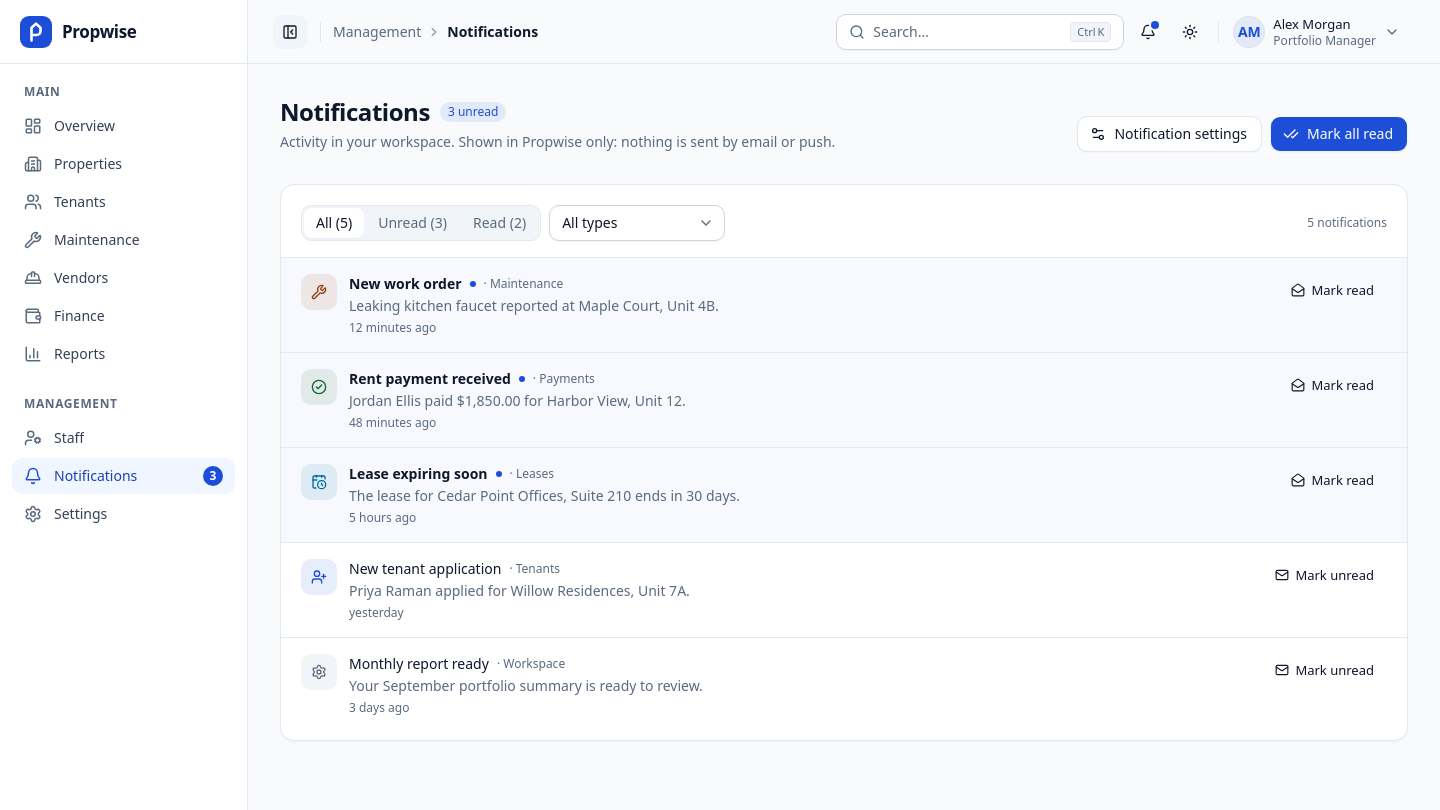
it: Notifications page › marks one read and unread, and all read; header, sidebar and page follow, and it is saved
Click the button with aria-label "Mark as read: New work order".
click(1336, 290)  # box [1284,274,1387,306]
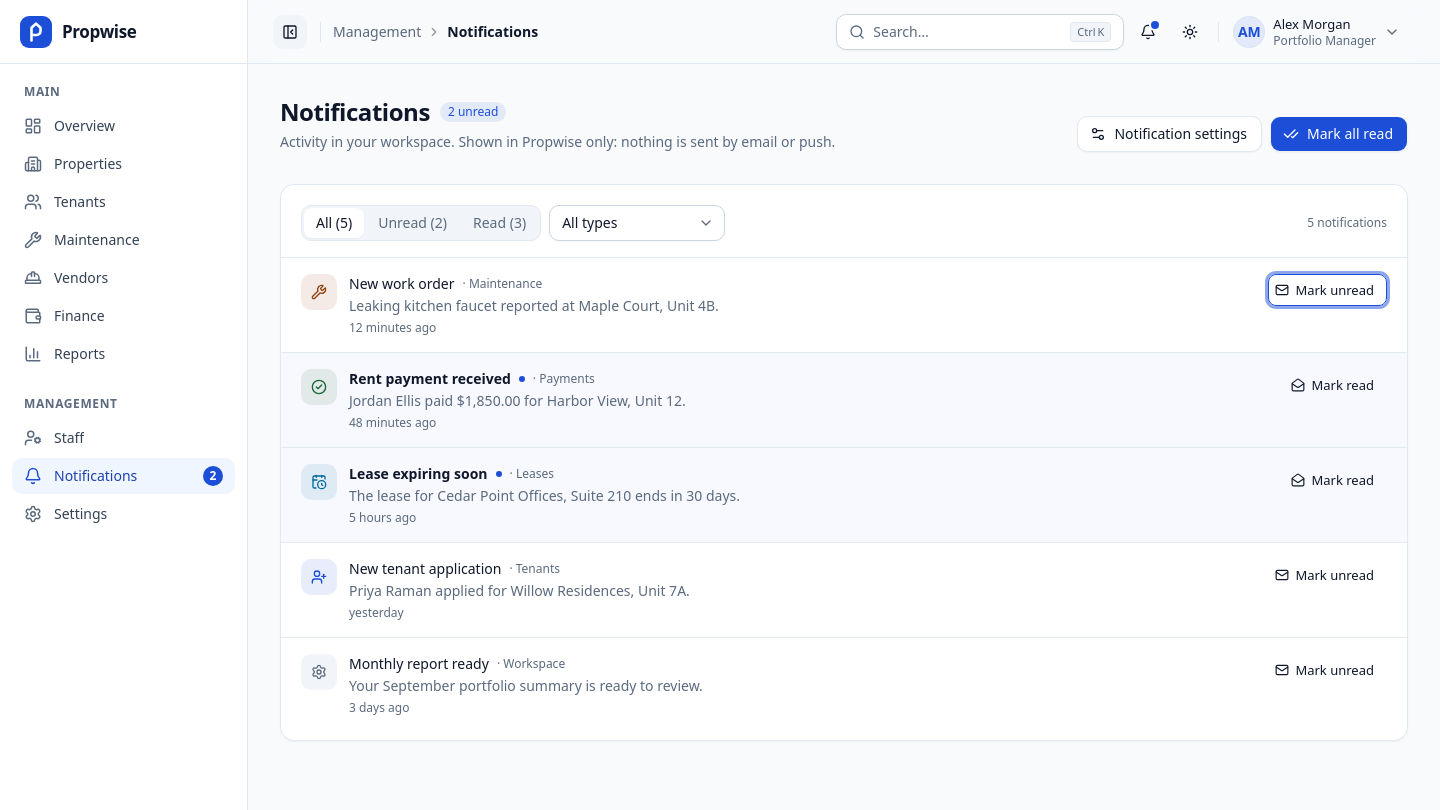
Expected: the link to "/notifications" shows "2", [12,458,235,494]
Click the button with aria-label "Mark as unread: Monthly report ready".
click(1328, 670)  # box [1268,654,1387,686]
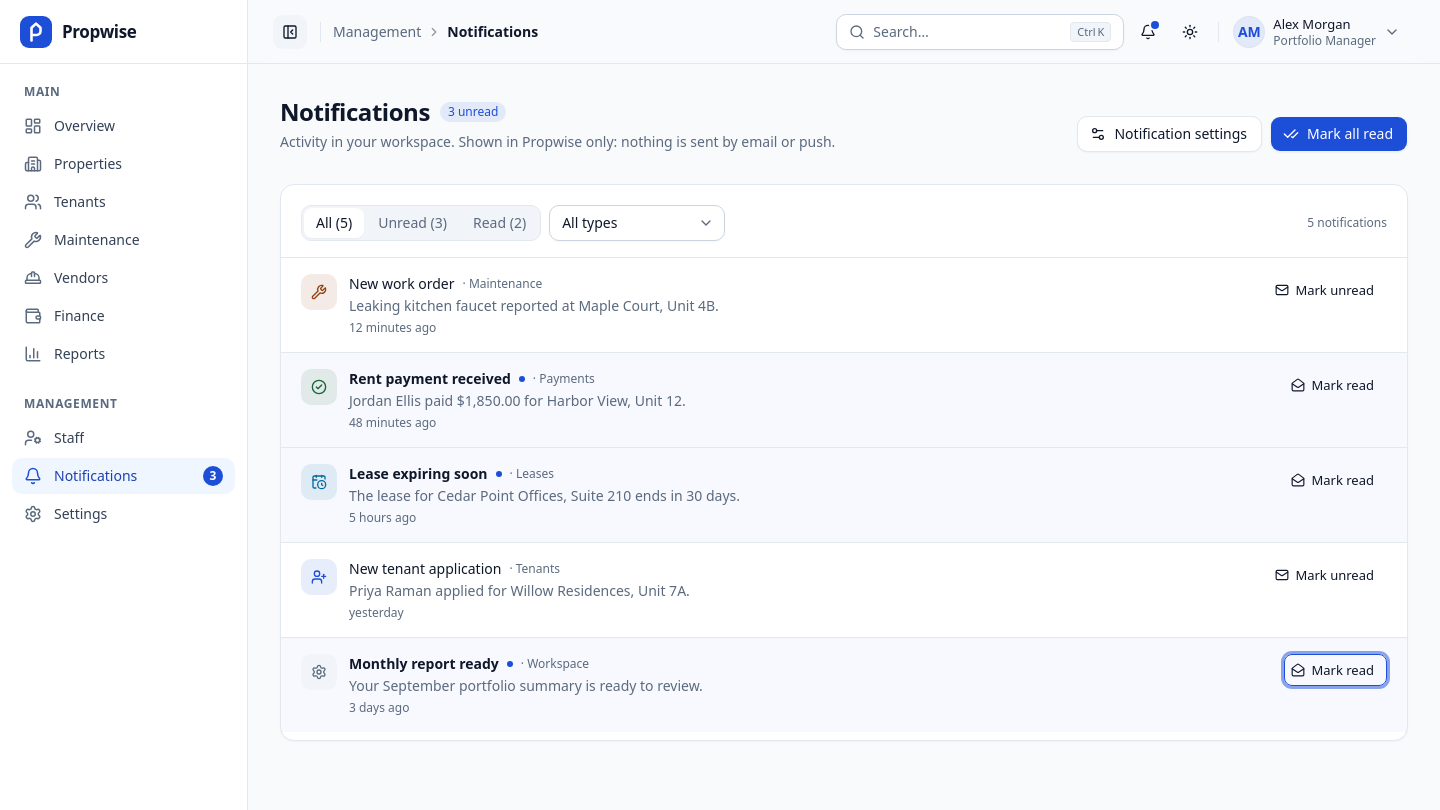
Click the button "Mark all read".
click(1339, 134)  # box [1270,116,1408,152]
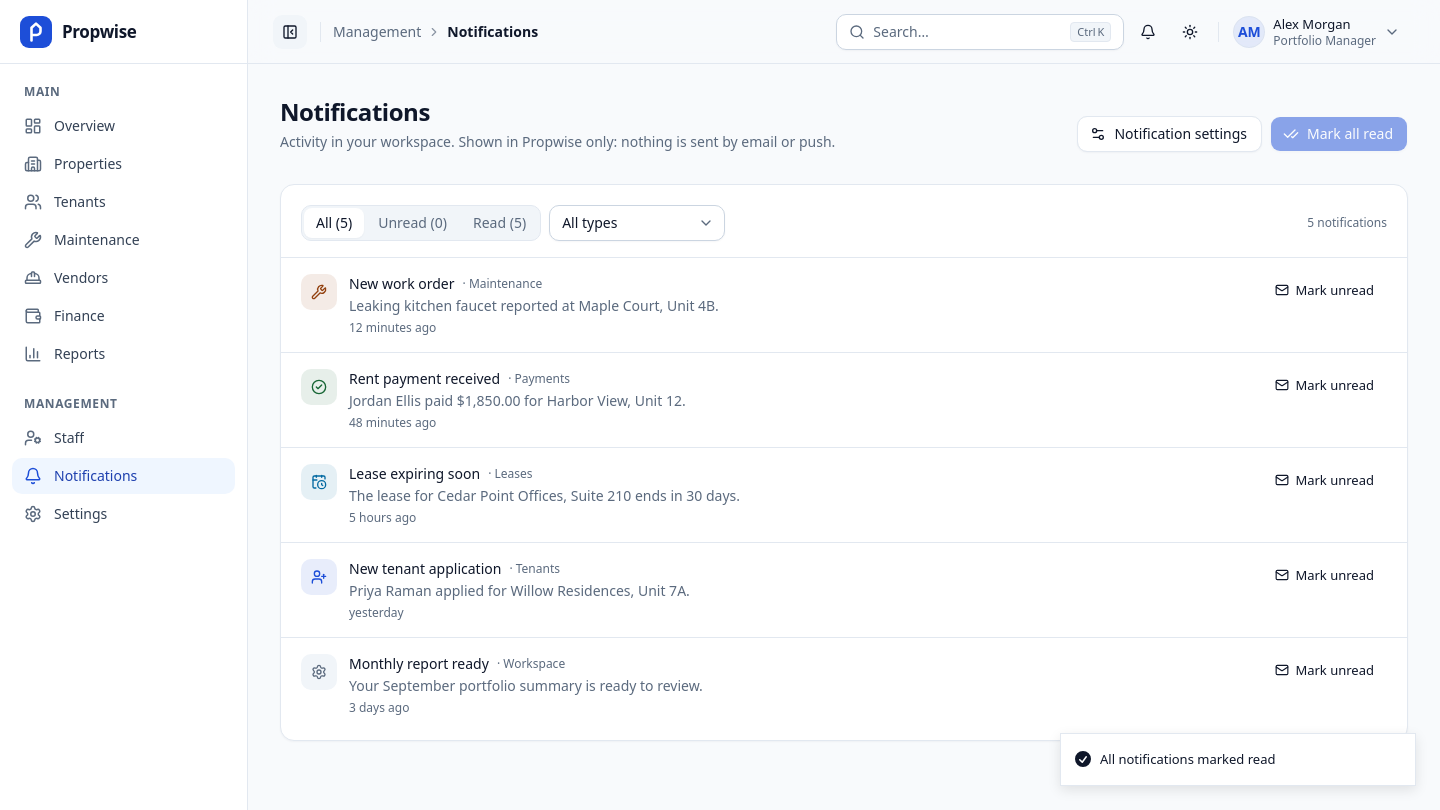
Expected: the button "Mark all read" is disabled, [1270,116,1408,152]
